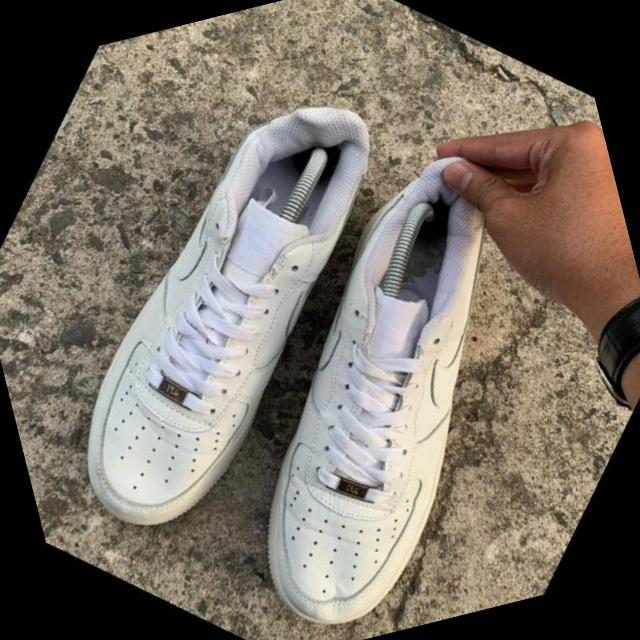nike_fake_airforce: (100, 92, 640, 640), (0, 30, 483, 588)
